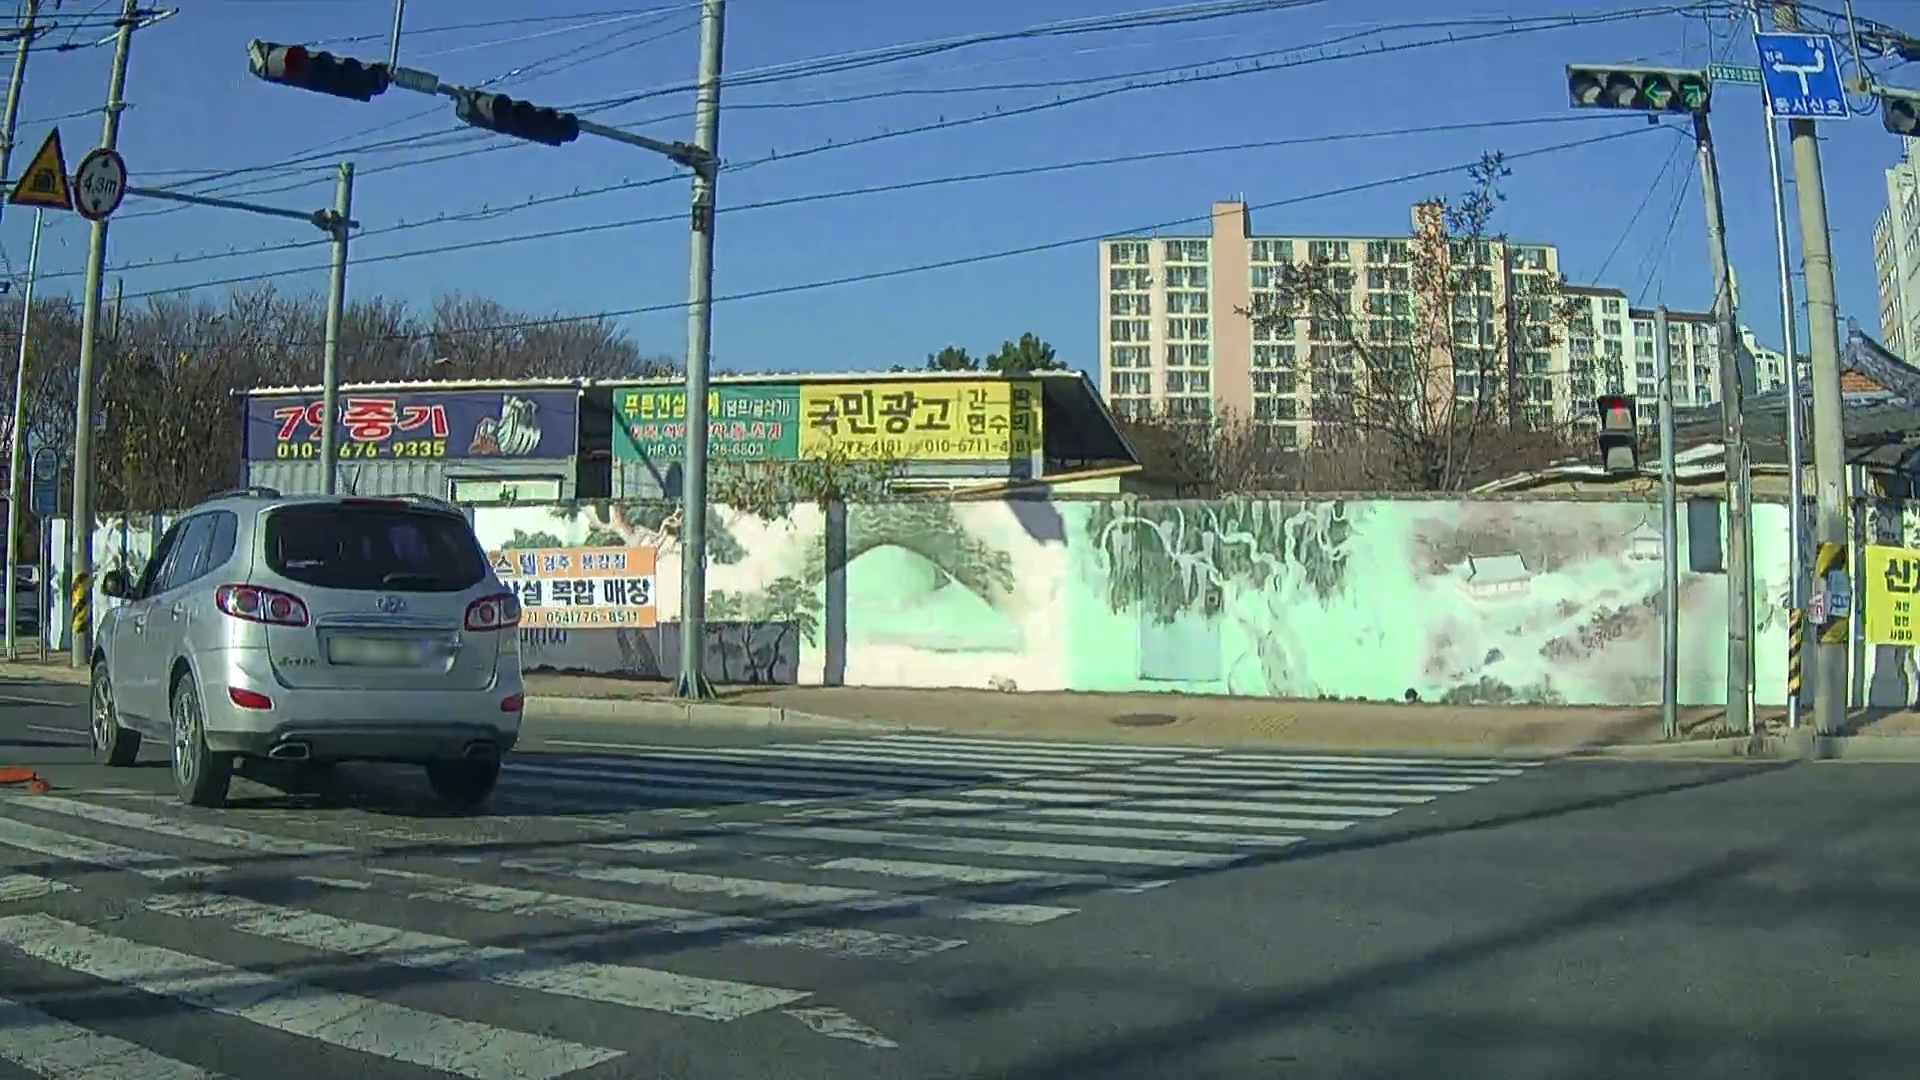trafficLight: (1567, 62, 1714, 124), (252, 45, 392, 107), (458, 88, 579, 153)
trafficLightBar: (1590, 388, 1643, 483)
trafficSignCircle: (82, 149, 127, 219)
trafficSignRTG: (1753, 28, 1847, 120)
trafficSignTri: (15, 125, 71, 211)
